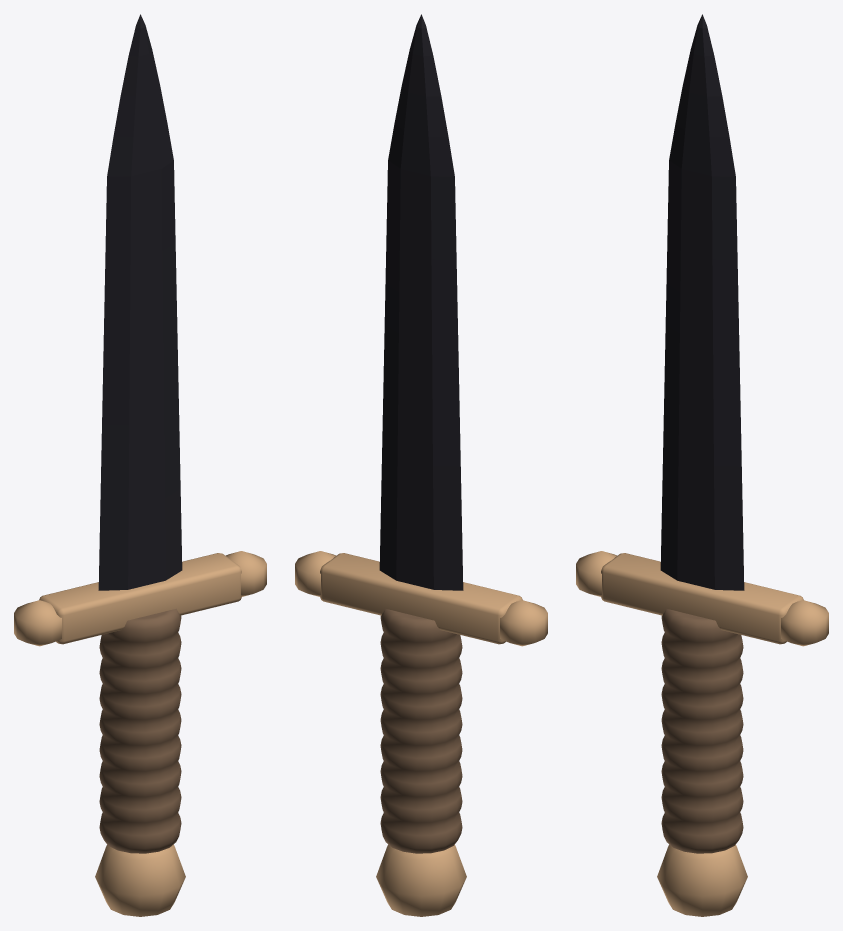
Rendered from dagger_obsidian.glb.
3 views of the same model, side by side, from view 1: azimuth 30°, elevation 25°; view 2: azimuth 150°, elevation 25°; view 3: azimuth 330°, elevation 25° (orthographic).
Parts seen in each view (by area): view 1: dagger_obsidian_blade, dagger_obsidian_grip, dagger_obsidian_guard, dagger_obsidian_pommel, dagger_obsidian_quillon-1, dagger_obsidian_quillon1; view 2: dagger_obsidian_blade, dagger_obsidian_grip, dagger_obsidian_guard, dagger_obsidian_pommel, dagger_obsidian_quillon-1, dagger_obsidian_quillon1; view 3: dagger_obsidian_blade, dagger_obsidian_grip, dagger_obsidian_guard, dagger_obsidian_pommel, dagger_obsidian_quillon1, dagger_obsidian_quillon-1.
Part boxes in pixels (bbox=[...]): dagger_obsidian_blade: bbox=[98, 14, 182, 590]; dagger_obsidian_grip: bbox=[99, 608, 181, 853]; dagger_obsidian_guard: bbox=[39, 553, 241, 644]; dagger_obsidian_pommel: bbox=[95, 844, 185, 916]; dagger_obsidian_quillon-1: bbox=[14, 600, 61, 646]; dagger_obsidian_quillon1: bbox=[226, 551, 266, 596]; dagger_obsidian_blade: bbox=[379, 14, 463, 590]; dagger_obsidian_grip: bbox=[380, 608, 462, 853]; dagger_obsidian_guard: bbox=[320, 553, 522, 644]; dagger_obsidian_pommel: bbox=[376, 844, 466, 916]; dagger_obsidian_quillon-1: bbox=[500, 600, 547, 646]; dagger_obsidian_quillon1: bbox=[295, 551, 335, 596]; dagger_obsidian_blade: bbox=[660, 14, 744, 590]; dagger_obsidian_grip: bbox=[661, 608, 743, 853]; dagger_obsidian_guard: bbox=[601, 553, 803, 644]; dagger_obsidian_pommel: bbox=[657, 844, 747, 916]; dagger_obsidian_quillon1: bbox=[781, 600, 828, 646]; dagger_obsidian_quillon-1: bbox=[576, 551, 616, 596].
Size of the model in its own units: 0.1 by 0.35 by 0.032.
